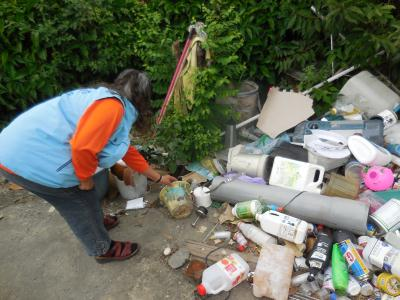bottle: (193, 251, 250, 299), (266, 154, 327, 194), (253, 209, 310, 247), (359, 236, 400, 280), (336, 238, 375, 283), (345, 134, 392, 166), (366, 196, 400, 236), (307, 233, 332, 283), (331, 238, 350, 297), (229, 199, 263, 222)
bowl: (158, 179, 195, 220)
bucket: (338, 71, 400, 118), (208, 78, 263, 128)
